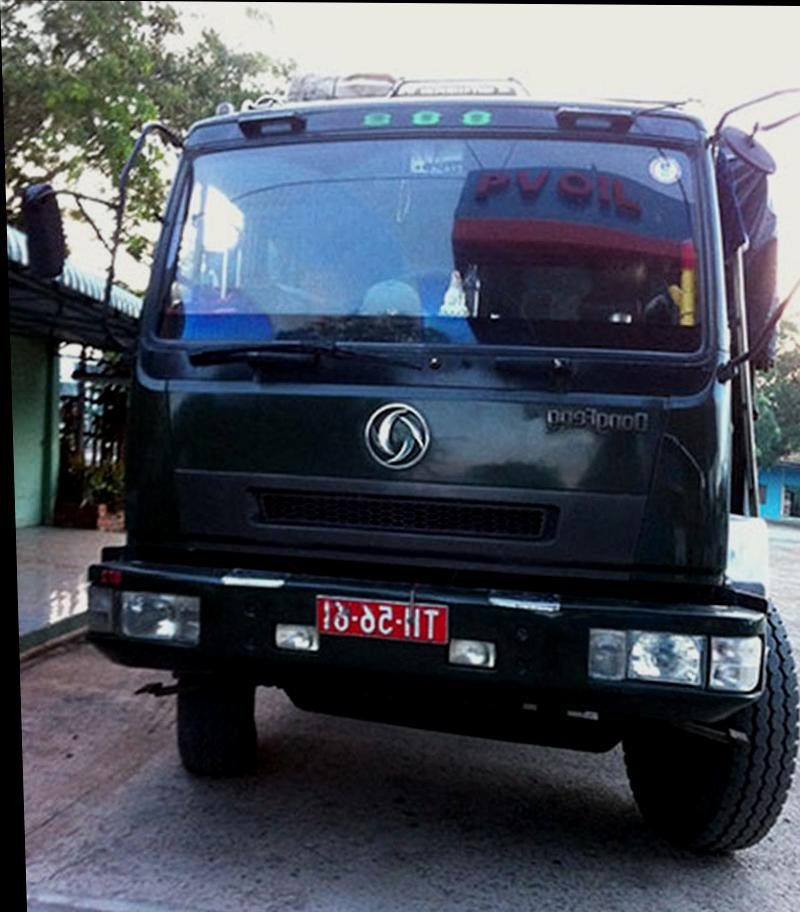License_Plate: (307, 590, 458, 644)
